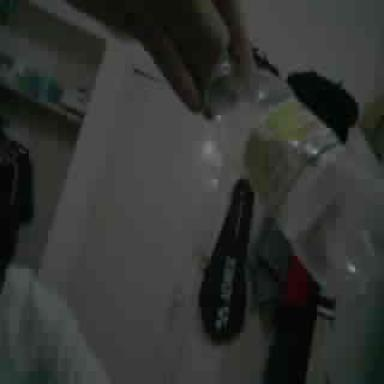bottle: (236, 72, 383, 286)
